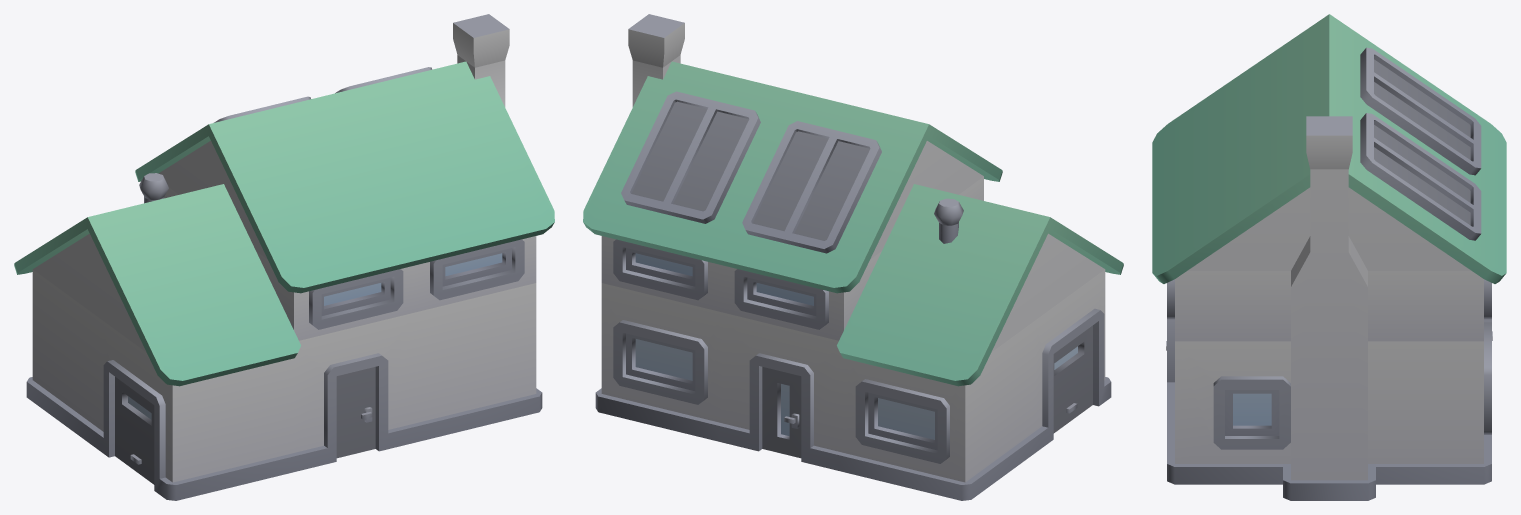
Rendered from building-type-j.glb.
3 renders of one model, left to right at view 1: azimuth 30°, elevation 25°; view 2: azimuth 150°, elevation 25°; view 3: azimuth 270°, elevation 25°, orthographic. The views are drawn at different scales.
Visible parts, largest first — view 1: building-type-j; view 2: building-type-j; view 3: building-type-j.
Boxes of the visible parts, bbox=[...] form: building-type-j: bbox=[14, 14, 554, 500]; building-type-j: bbox=[583, 14, 1123, 500]; building-type-j: bbox=[1152, 14, 1506, 500].
Size of the model in its own units: 1.37 by 1.04 by 0.916.
